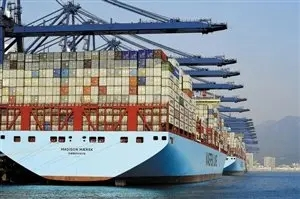Cargoship: (1, 41, 233, 184)
